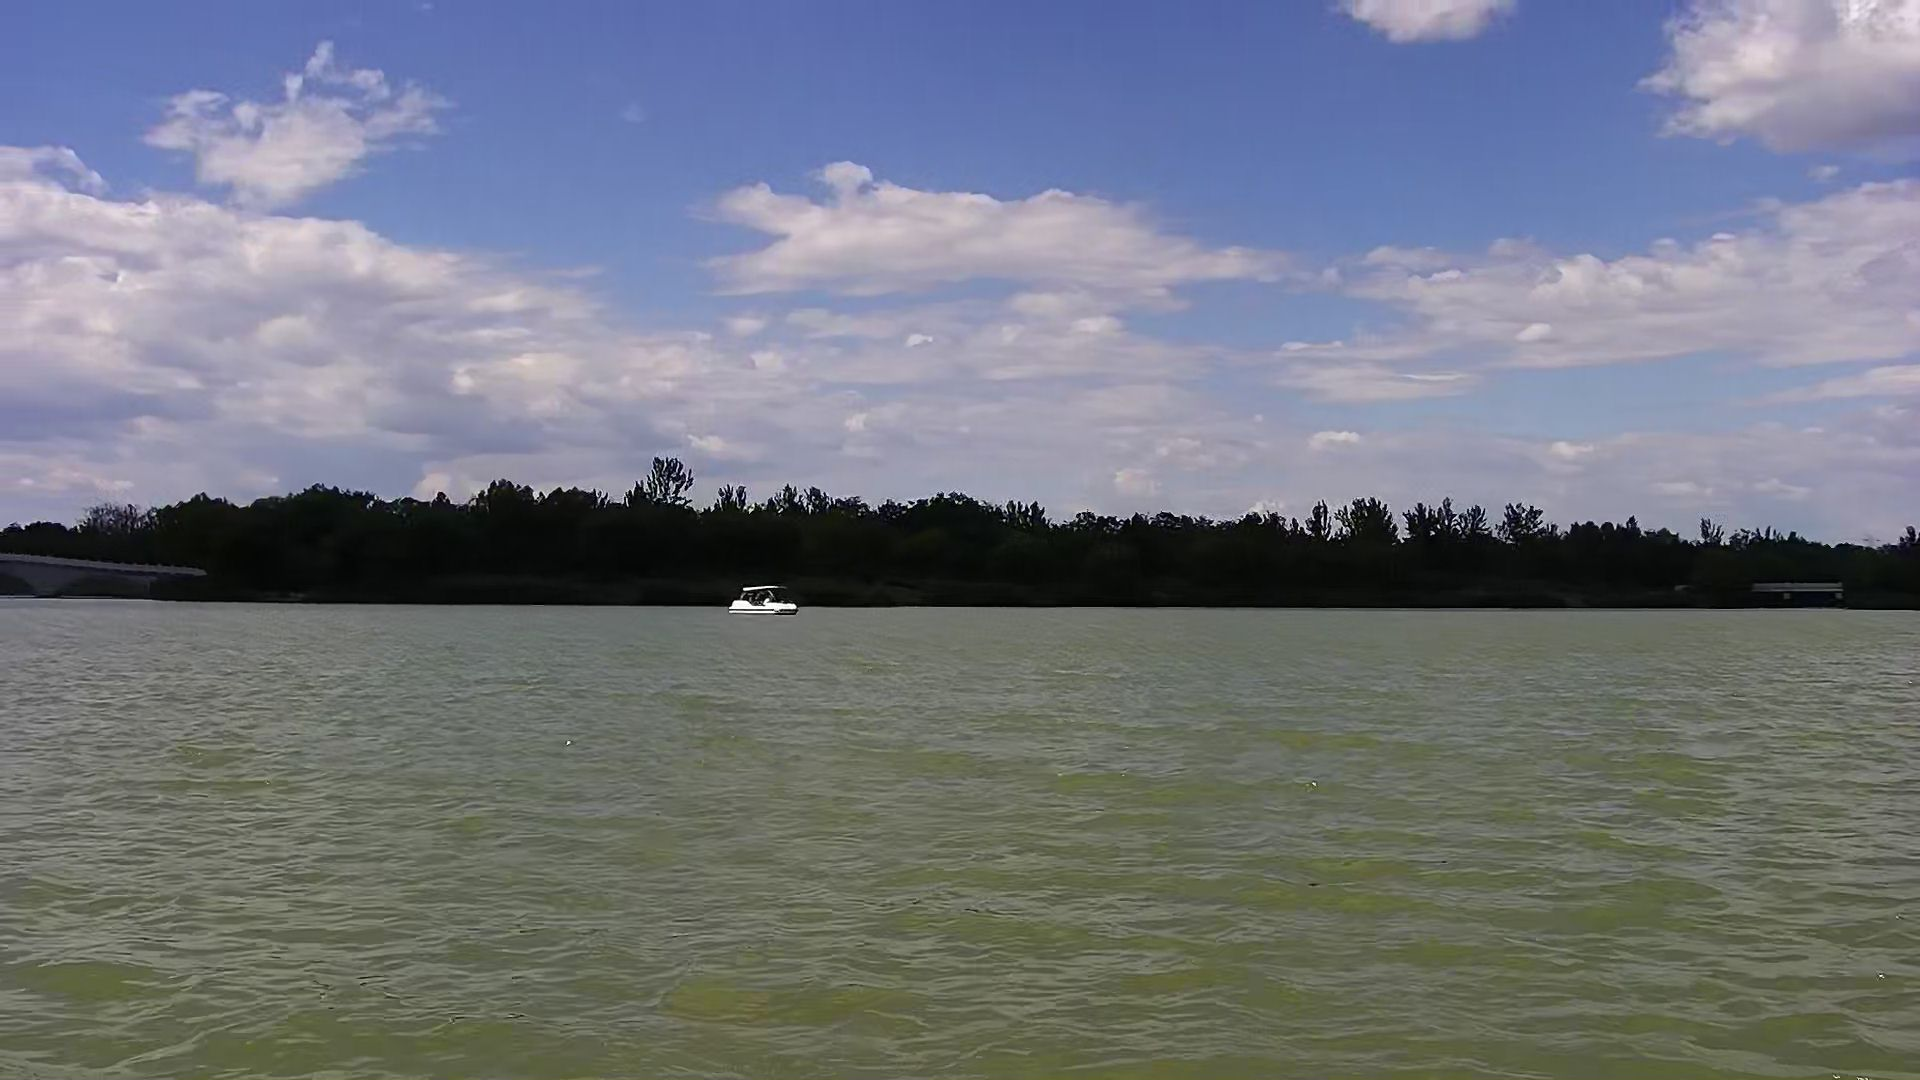boat: (716, 580, 804, 618)
bridge: (1, 549, 171, 603)
